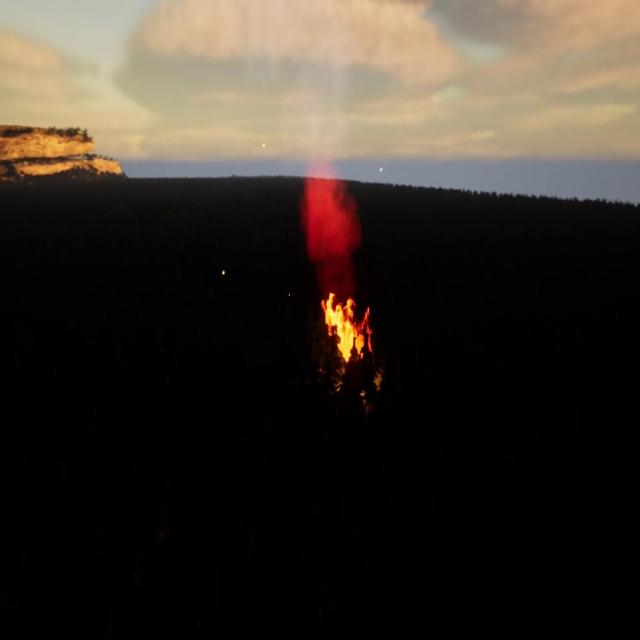fire: (320, 286, 372, 366)
smoke: (303, 142, 365, 274)
